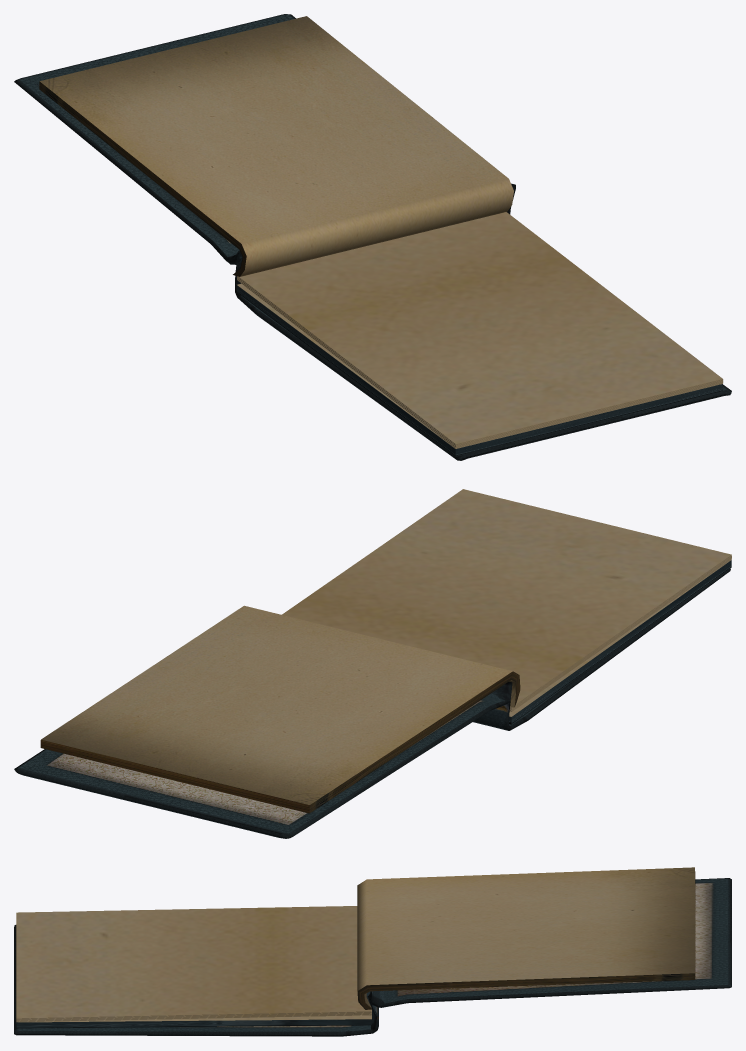
Rendered from OpenBook.fbx.
The picture shows the model from 3 angles, top to bottom: view 1: azimuth 30°, elevation 25°; view 2: azimuth 150°, elevation 25°; view 3: azimuth 270°, elevation 25°; orthographic projection. The views are drawn at different scales.
Visible parts, largest first — view 1: PageFillTop, Page1, polySurface2, PageFillBot; view 2: PageFillTop, Page1, polySurface2, PageFillBot; view 3: PageFillTop, Page1, polySurface2, PageFillBot, Page2, Page7, Page5, Page6, Page8, Page3, Page4.
Part boxes in pixels (x1,y1,x2,y2): PageFillTop: [39, 16, 513, 276]; Page1: [238, 212, 722, 444]; polySurface2: [14, 14, 731, 460]; PageFillBot: [236, 283, 722, 456]; PageFillTop: [40, 605, 520, 813]; Page1: [282, 489, 731, 707]; polySurface2: [14, 568, 730, 838]; PageFillBot: [509, 560, 731, 724]; PageFillTop: [357, 867, 695, 1009]; Page1: [16, 906, 371, 1018]; polySurface2: [14, 878, 731, 1036]; PageFillBot: [16, 1010, 371, 1028]; Page2: [16, 1012, 371, 1019]; Page7: [16, 1014, 371, 1021]; Page5: [16, 1013, 371, 1020]; Page6: [16, 1013, 371, 1021]; Page8: [16, 1014, 371, 1022]; Page3: [16, 1012, 371, 1019]; Page4: [16, 1013, 371, 1020].
Size of the model in its own units: 3.43 by 0.8736 by 9.34.
